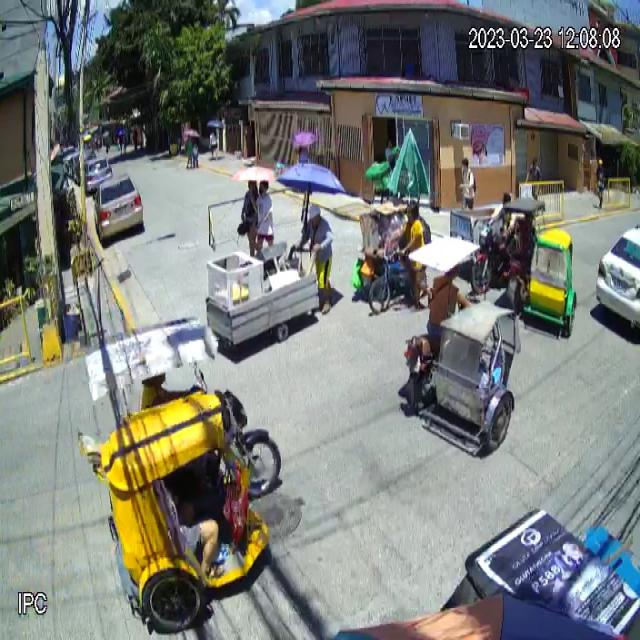Tricycle: (81, 316, 280, 627), (398, 235, 520, 460)
